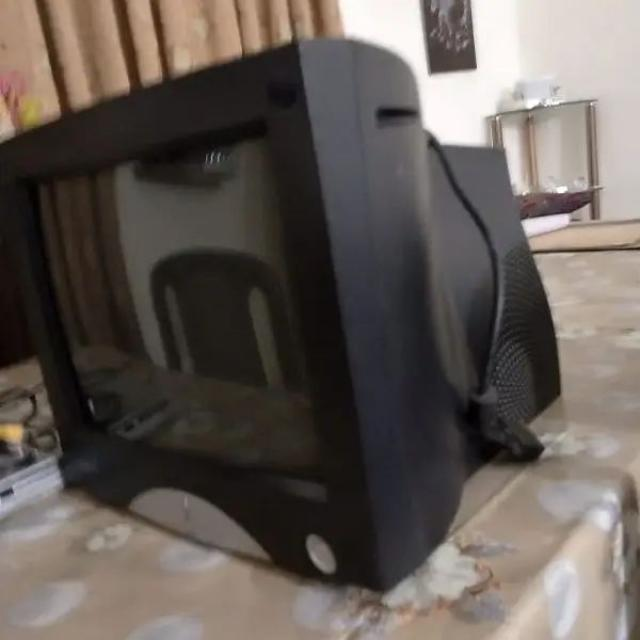electronic: (0, 34, 558, 591)
